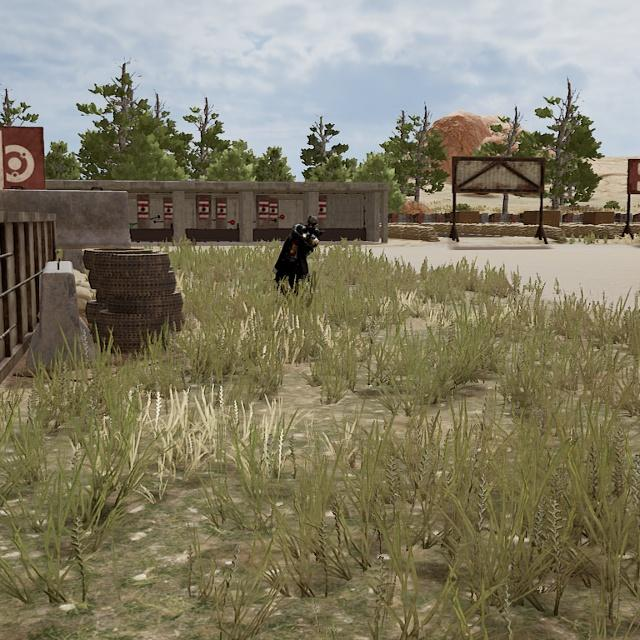head: (307, 215, 319, 231)
people: (274, 214, 320, 296)
